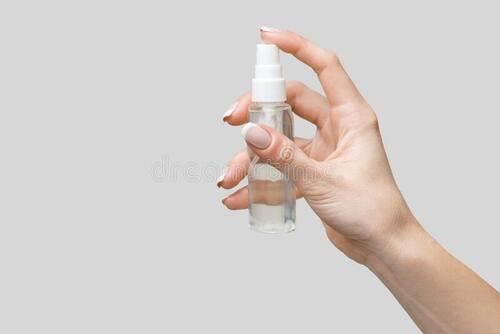sanitizer: (244, 40, 300, 237)
